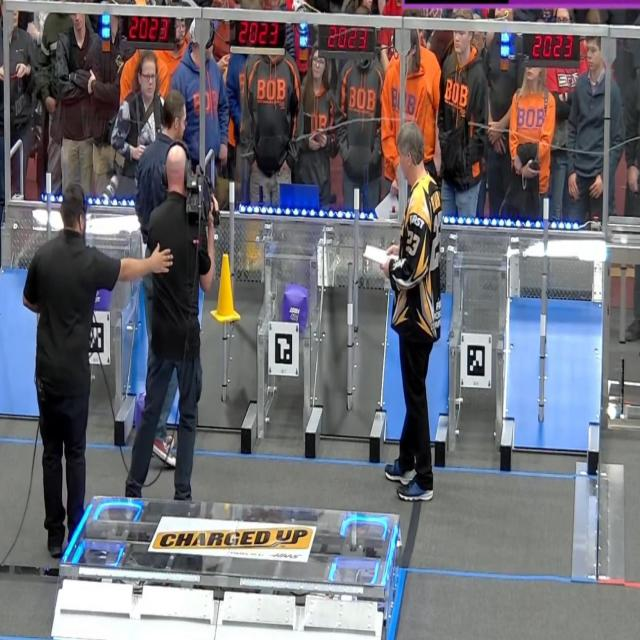frc_cone: (210, 250, 243, 324)
frc_cube: (283, 284, 307, 325), (94, 286, 110, 314), (136, 392, 146, 432)
